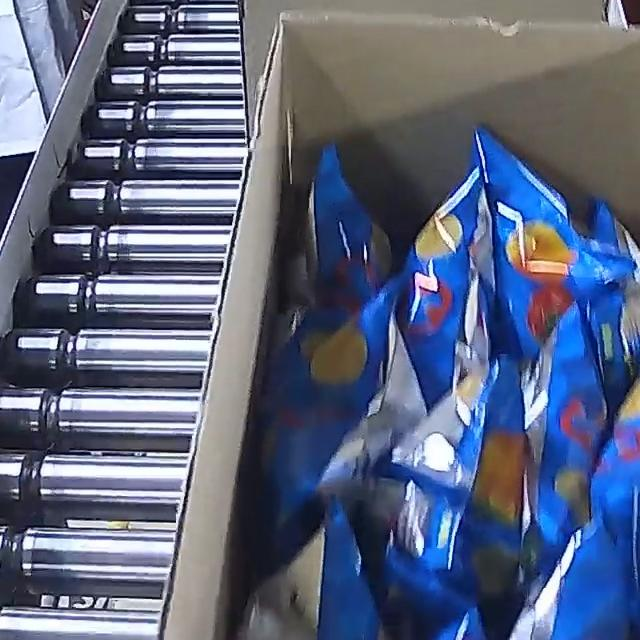paprika: (257, 123, 640, 640)
